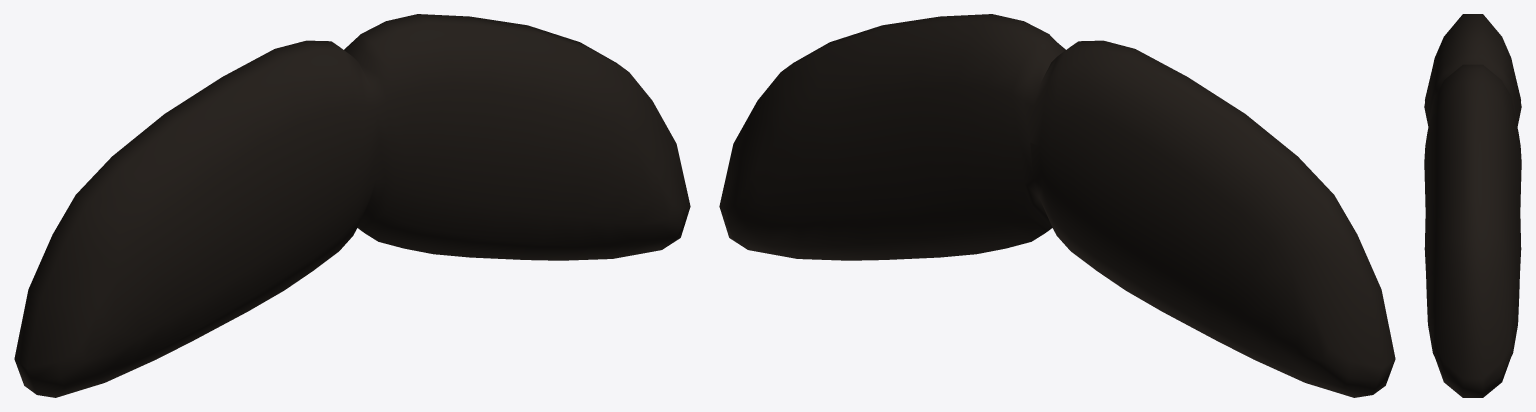
File: Beard_01_01.fbx
The picture shows the model from 3 angles, left to right: view 1: azimuth 30°, elevation 25°; view 2: azimuth 150°, elevation 25°; view 3: azimuth 270°, elevation 25°; orthographic projection. The views are drawn at different scales.
Parts seen in each view (by area): view 1: Beard_01_01; view 2: Beard_01_01; view 3: Beard_01_01.
Part boxes in pixels (x1=…): Beard_01_01: x1=14, y1=14, x2=690, y2=397; Beard_01_01: x1=719, y1=14, x2=1395, y2=397; Beard_01_01: x1=1424, y1=14, x2=1521, y2=397.
Bounding box in the file's own units: 15.94 × 6.52 × 2.55.
